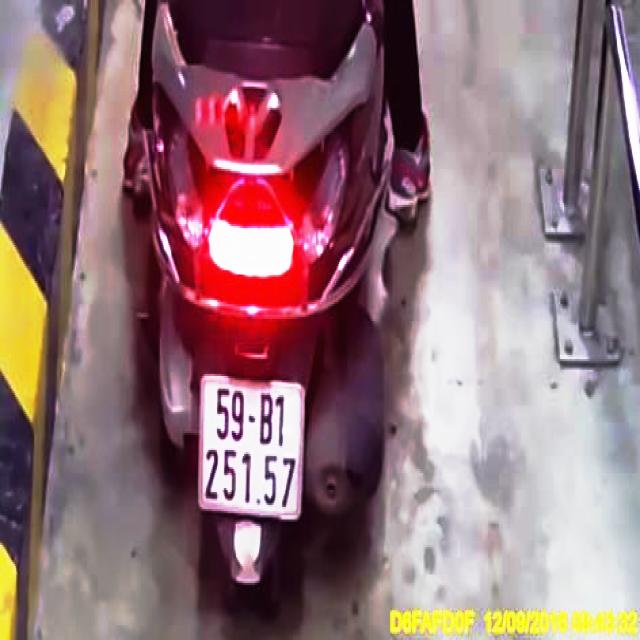license_plate: (202, 375, 304, 516)
